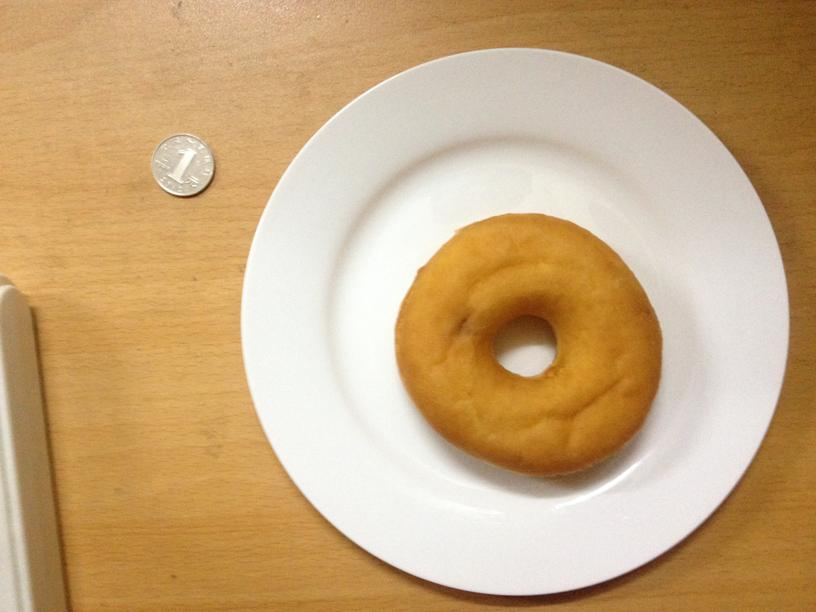coin: (150, 133, 215, 197)
doughnut: (391, 210, 663, 474)
